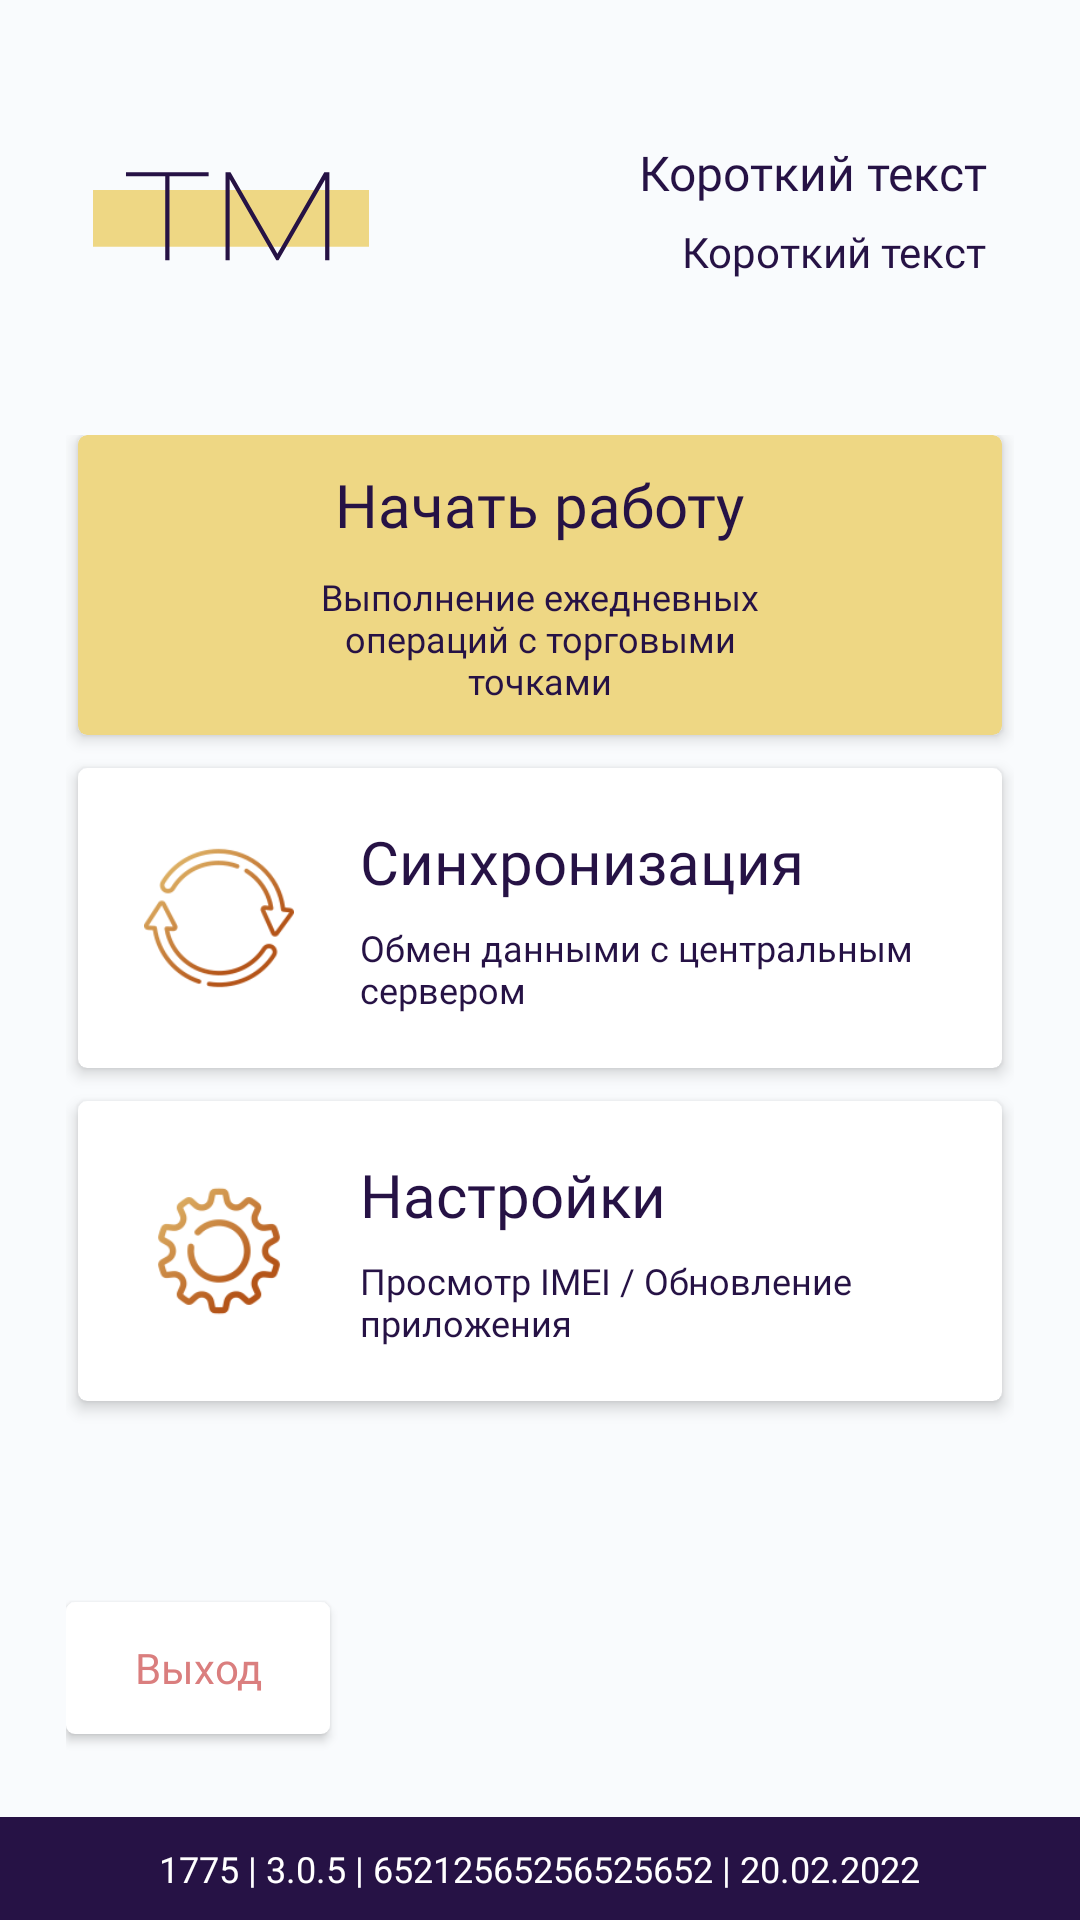

Where icons sit on this 1080w x 1920h app screen, as (x1, y1, x2, y2):
settings: (158, 1188, 280, 1314)
sync: (144, 848, 294, 988)
